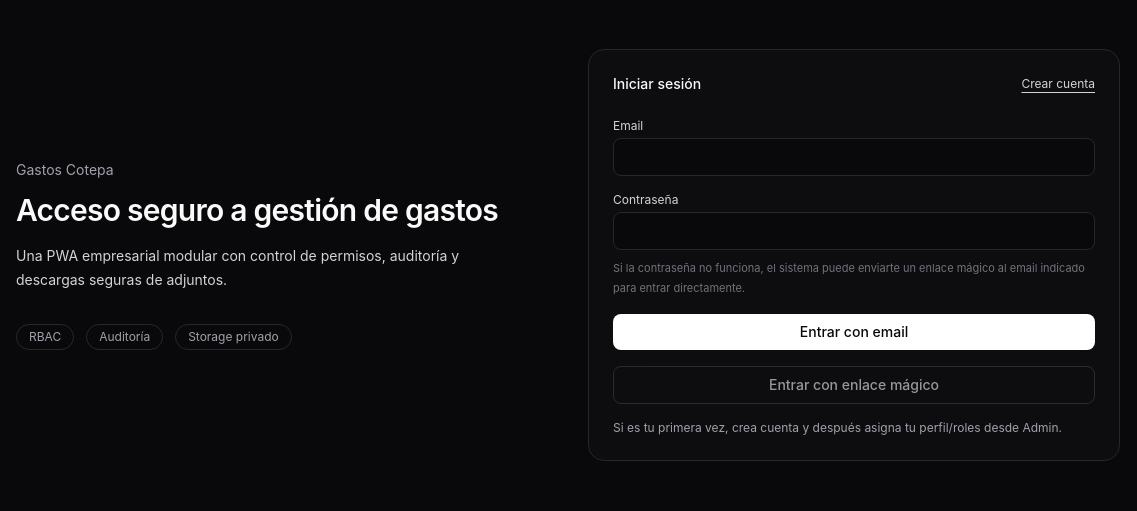
Scenario: smoke › envía un enlace mágico cuando la contraseña no está disponible
Type "user@test.local" into the field labelled "Email" at point(854, 157), box [613, 138, 1095, 176]
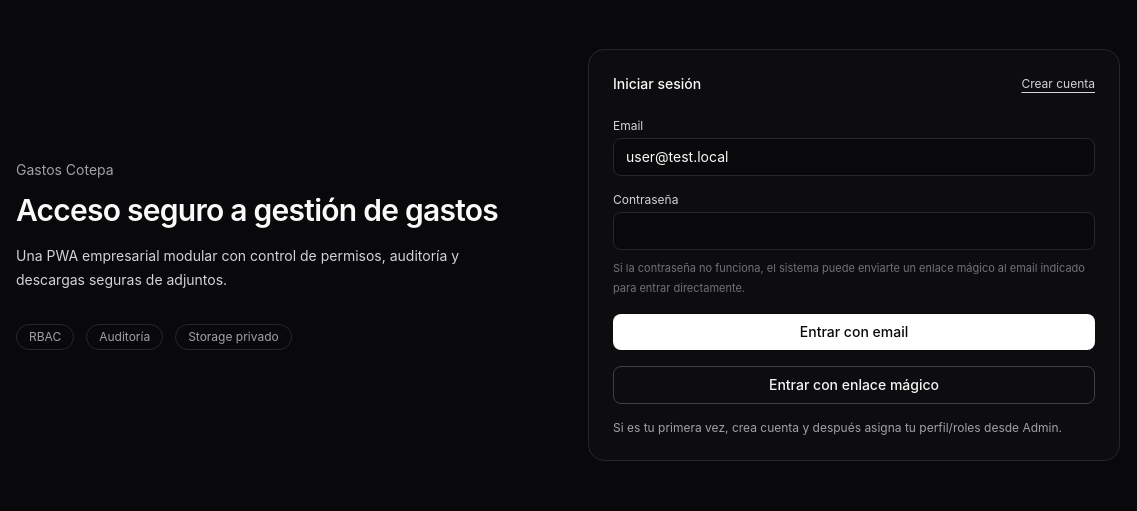
Type "password123" into the password field labelled "Contraseña" at point(854, 231), box [613, 212, 1095, 250]
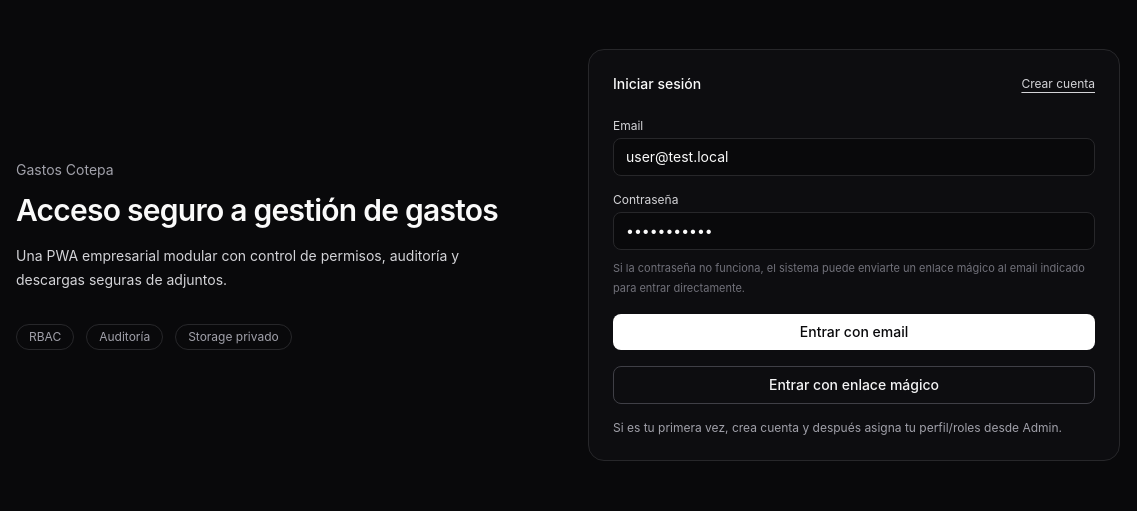
Click the button "Entrar con email" at point(854, 332), box [613, 314, 1095, 350]
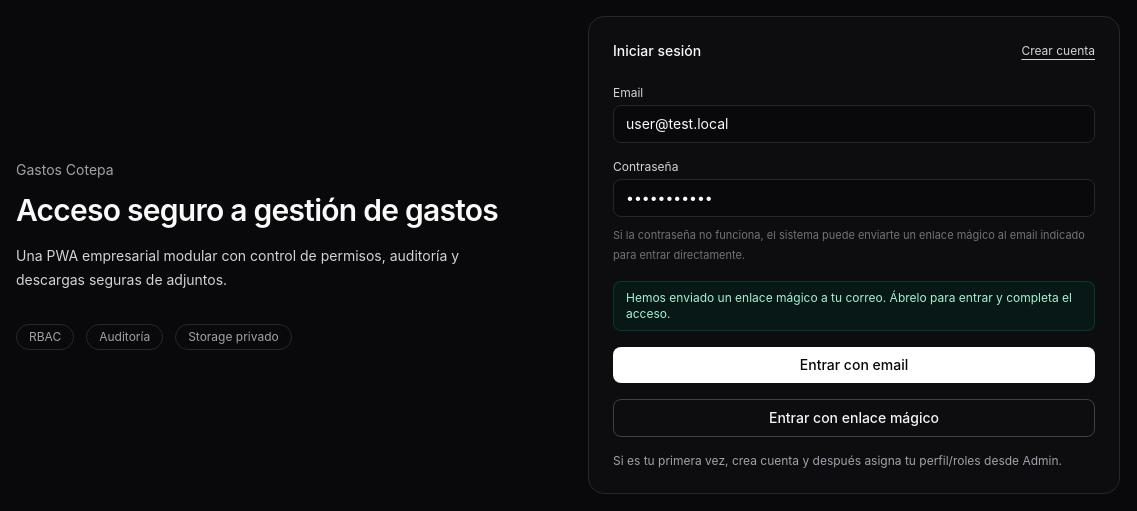
Result: the text "Hemos enviado un enlace" is shown at [626, 290, 1072, 321]
